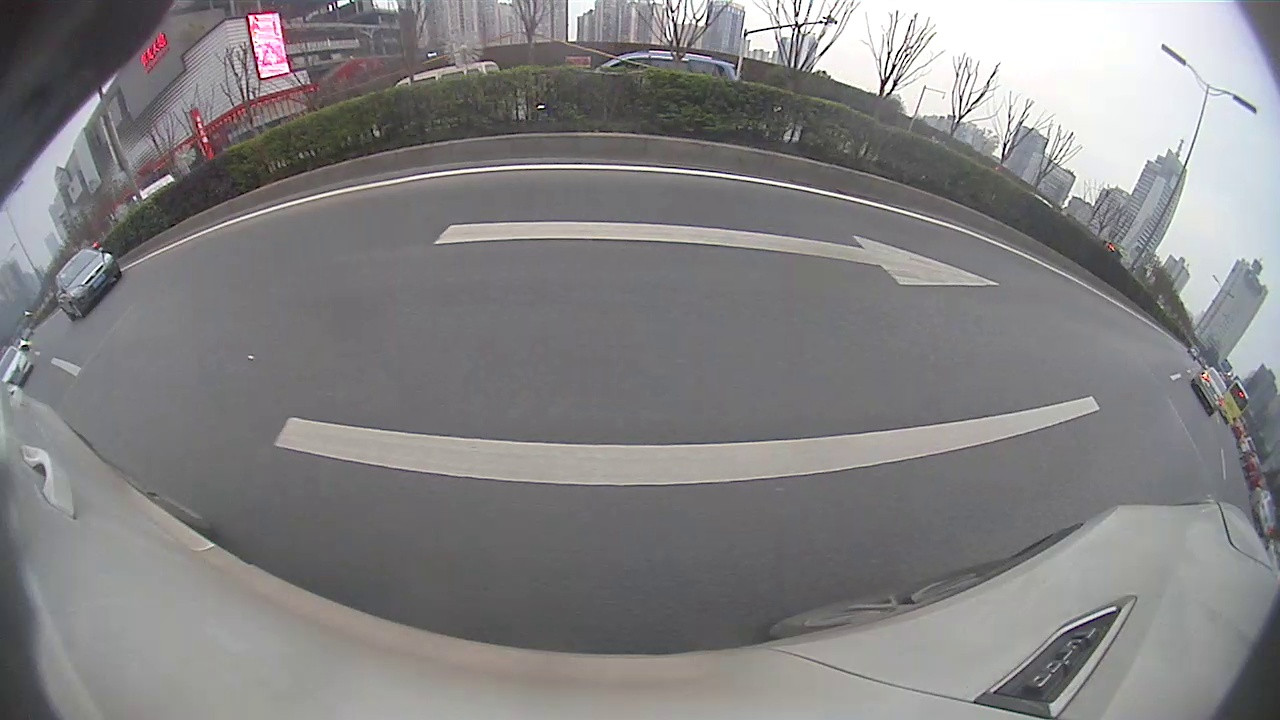car: (54, 248, 124, 320), (1191, 367, 1229, 417)
